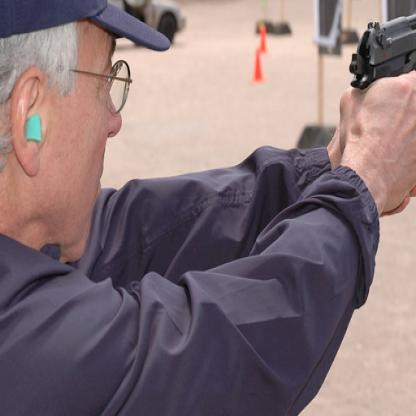gun: (348, 0, 415, 93)
